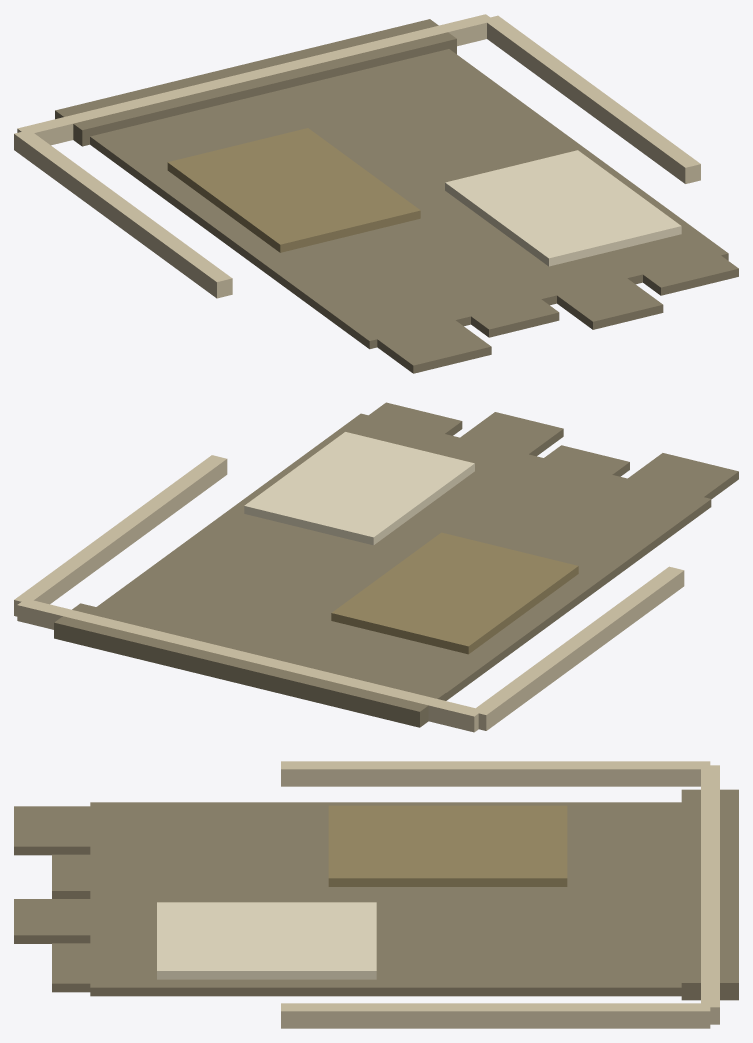
The model's file is loincloth.glb.
The picture shows the model from 3 angles, top to bottom: view 1: azimuth 30°, elevation 25°; view 2: azimuth 150°, elevation 25°; view 3: azimuth 270°, elevation 25°; orthographic projection. The views are drawn at different scales.
Parts seen in each view (by area): view 1: loincloth:compound; view 2: loincloth:compound; view 3: loincloth:compound.
Part boxes in pixels (x1,y1,x2,y2): loincloth:compound: (14,14,738,373); loincloth:compound: (14,402,738,732); loincloth:compound: (14,761,738,1028).
Size of the model in its own units: 0.248 by 0.008 by 0.304.
